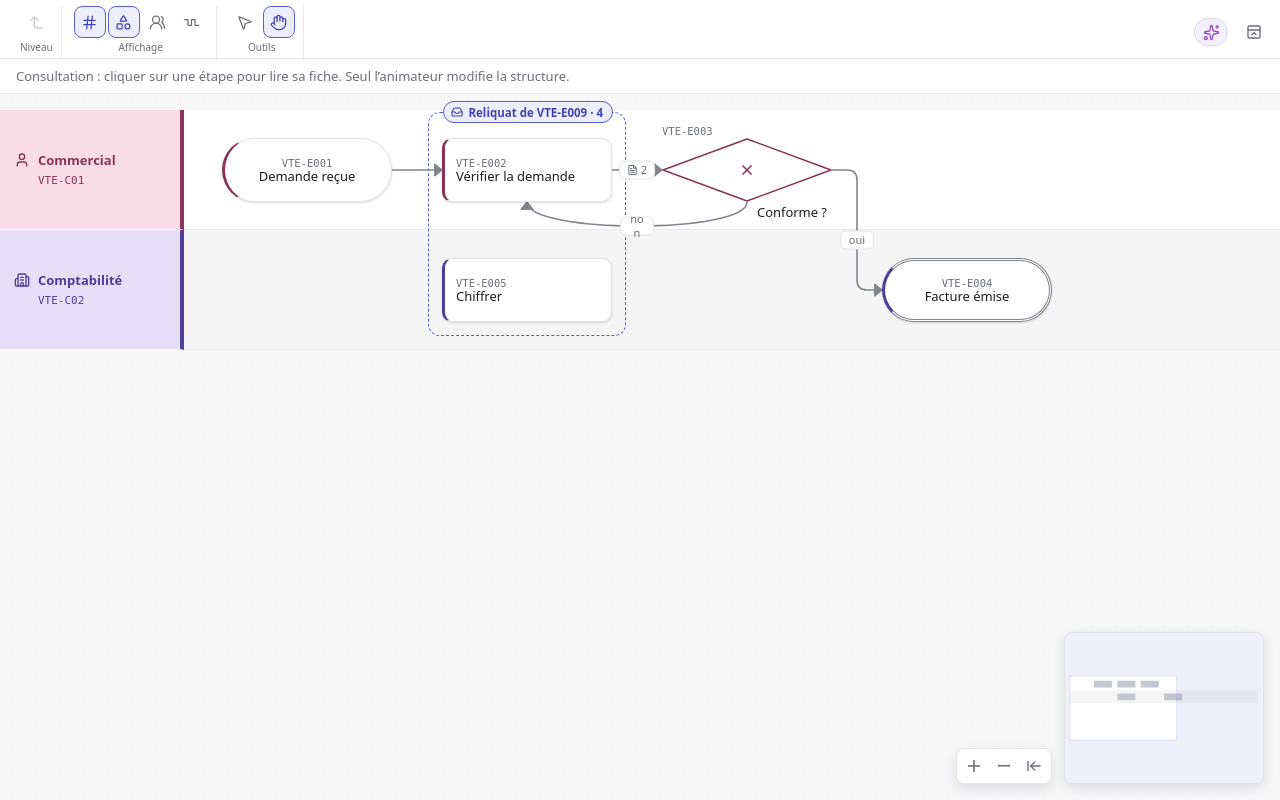
it: the deletion and « Terminer » (B-2.9-32, B-2.9-36, B-2.9-37, AR-122) › a reader sees the remainder without the choices nor the buttons
Click the button with test id "dissolution-label" at (528,112), box [444,101,613,123]
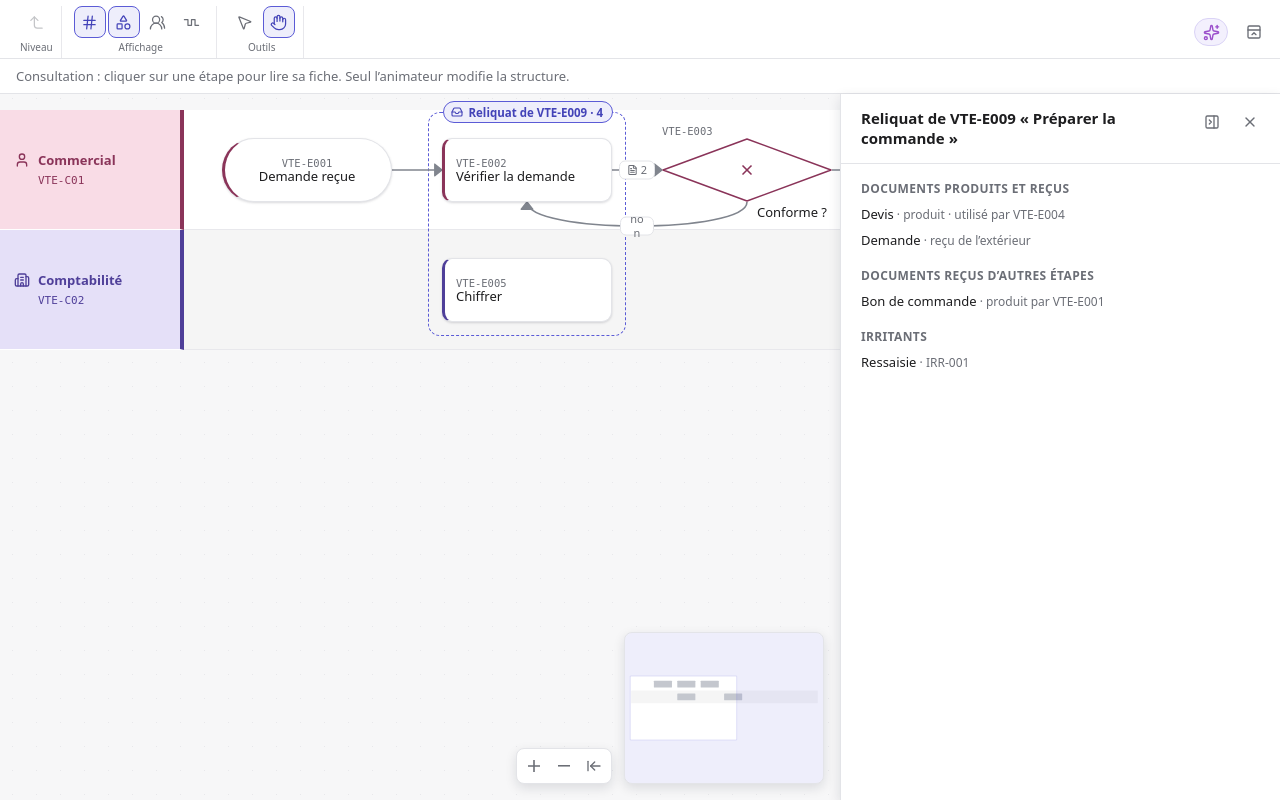
Expected: the list item with test id "remainder-document-o" shows "Devis", [861,204,894,222]
